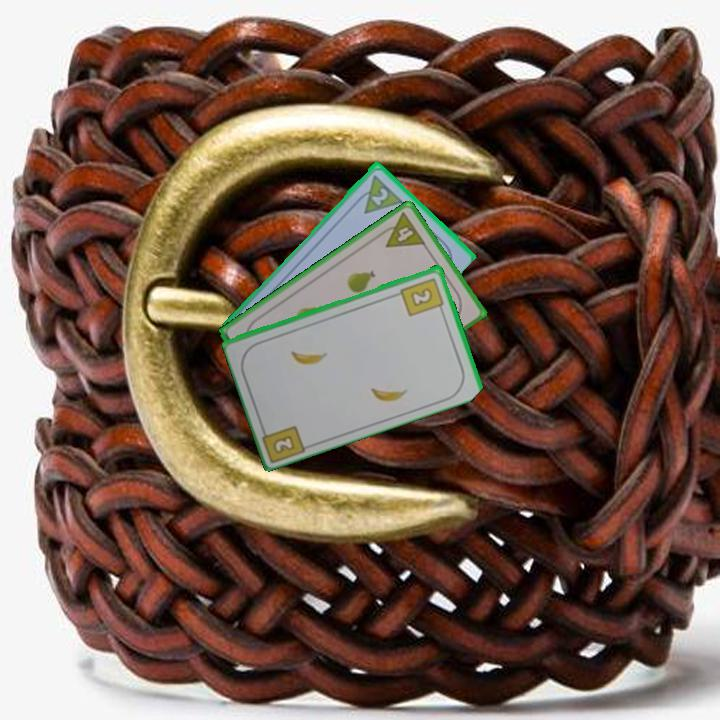2b: (397, 274, 447, 319), (269, 431, 298, 456)
2p: (351, 170, 404, 217)
4p: (375, 209, 428, 250)
